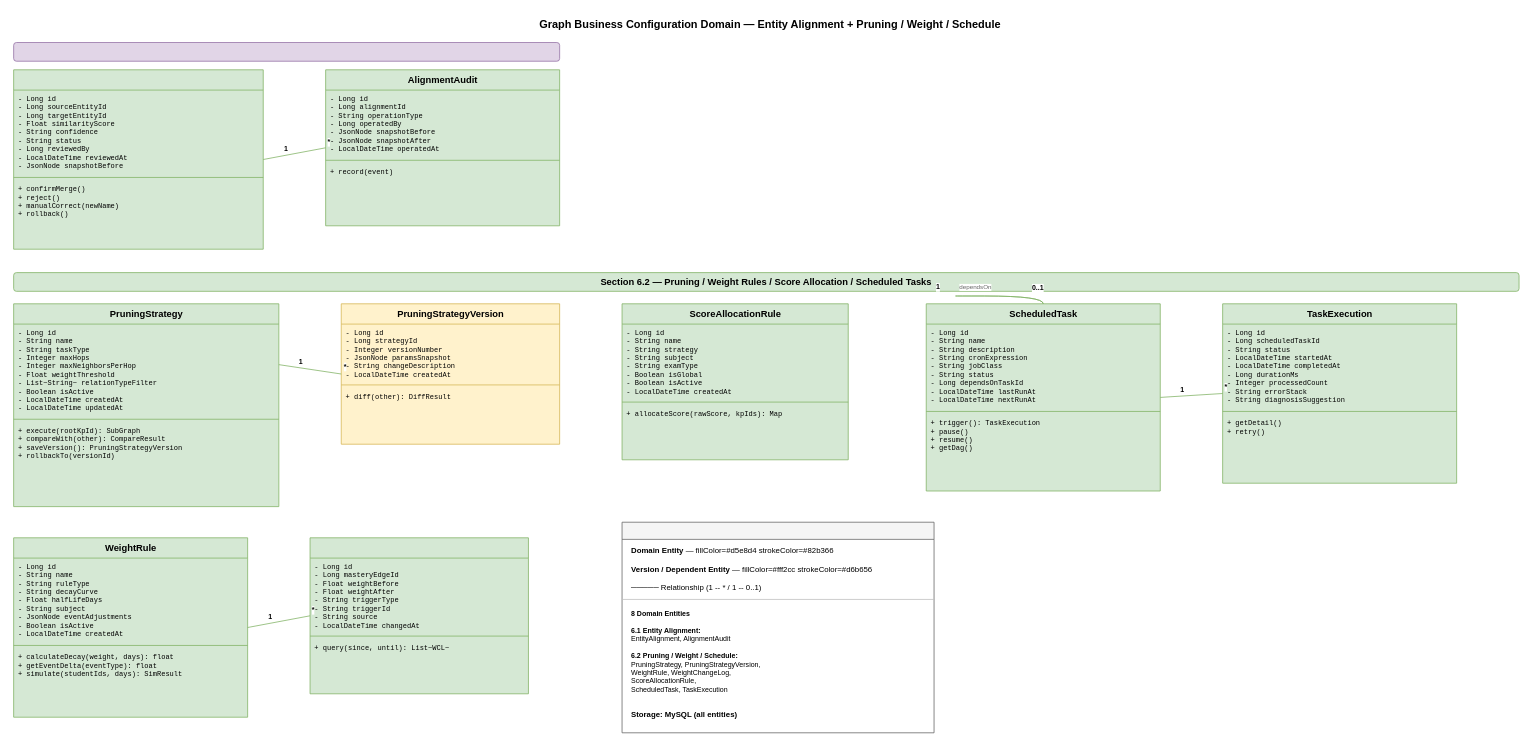
Image size: 1533x746. Some labels were removed from this diagram. The box of each missing label's shape, as (x1, y1, x2, y2) in pixels:
EntityAlignment: (13, 69, 263, 249)
Legend: (621, 521, 934, 733)
Section 6.1 — Entity Alignment: (13, 42, 560, 61)
WeightChangeLog: (309, 537, 528, 694)
